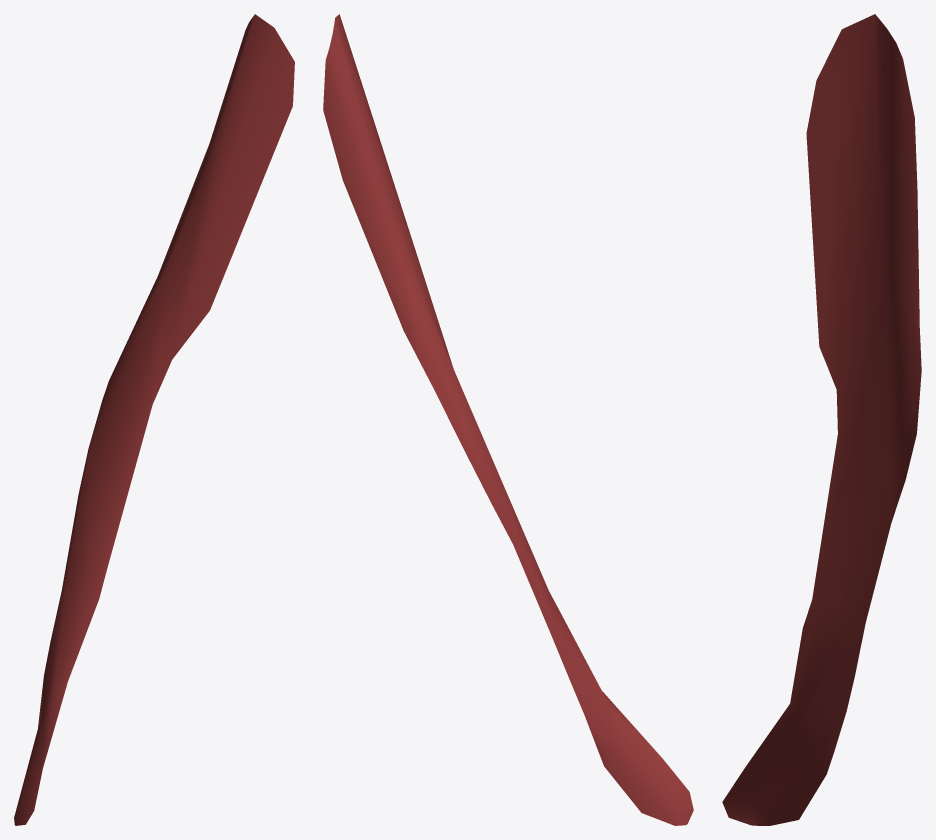
Rendered from extensor-carpi-radialis-longus-or.glb.
3 renders of one model, left to right at view 1: azimuth 30°, elevation 25°; view 2: azimuth 150°, elevation 25°; view 3: azimuth 270°, elevation 25°, orthographic. The views are drawn at different scales.
Parts seen in each view (by area): view 1: Extensor carpi radialis longus.or; view 2: Extensor carpi radialis longus.or; view 3: Extensor carpi radialis longus.or.
Part boxes in pixels (<box>): Extensor carpi radialis longus.or: <box>14,14,294,825</box>; Extensor carpi radialis longus.or: <box>323,14,693,825</box>; Extensor carpi radialis longus.or: <box>722,14,921,825</box>.
Bounding box in the file's own units: 0.0214 × 0.0481 × 0.00863.
